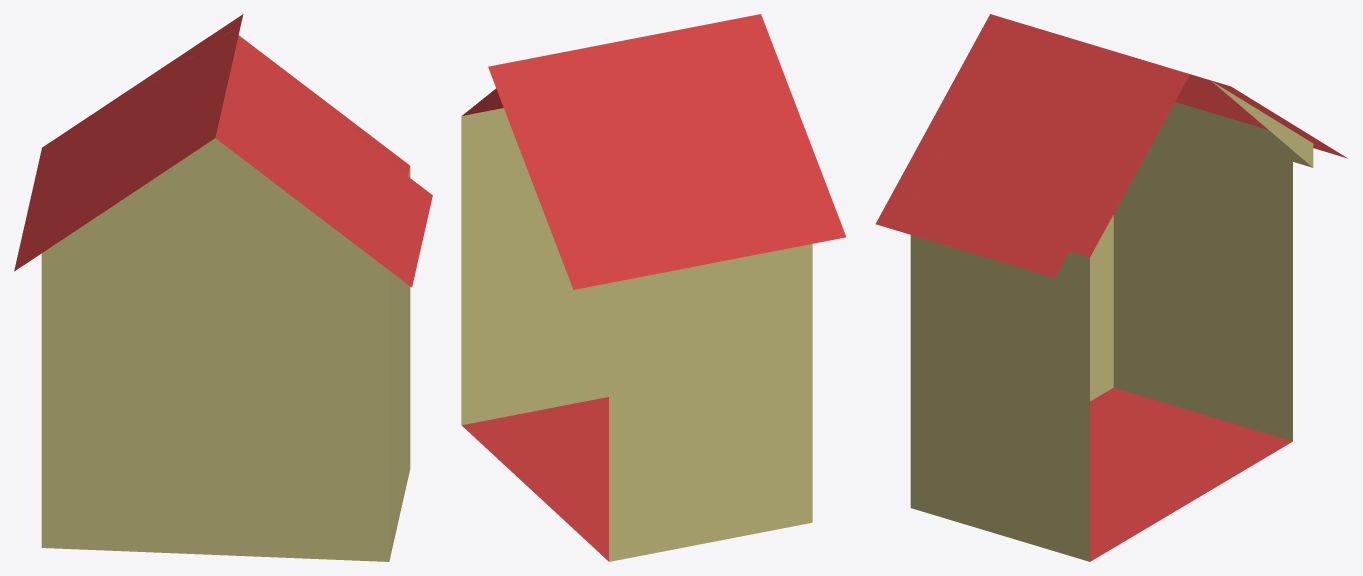
The picture shows the model from 3 angles, left to right: view 1: azimuth 30°, elevation 25°; view 2: azimuth 150°, elevation 25°; view 3: azimuth 270°, elevation 25°; orthographic projection.
Bounding box in the file's own units: 13.46 × 14.02 × 14.01.
